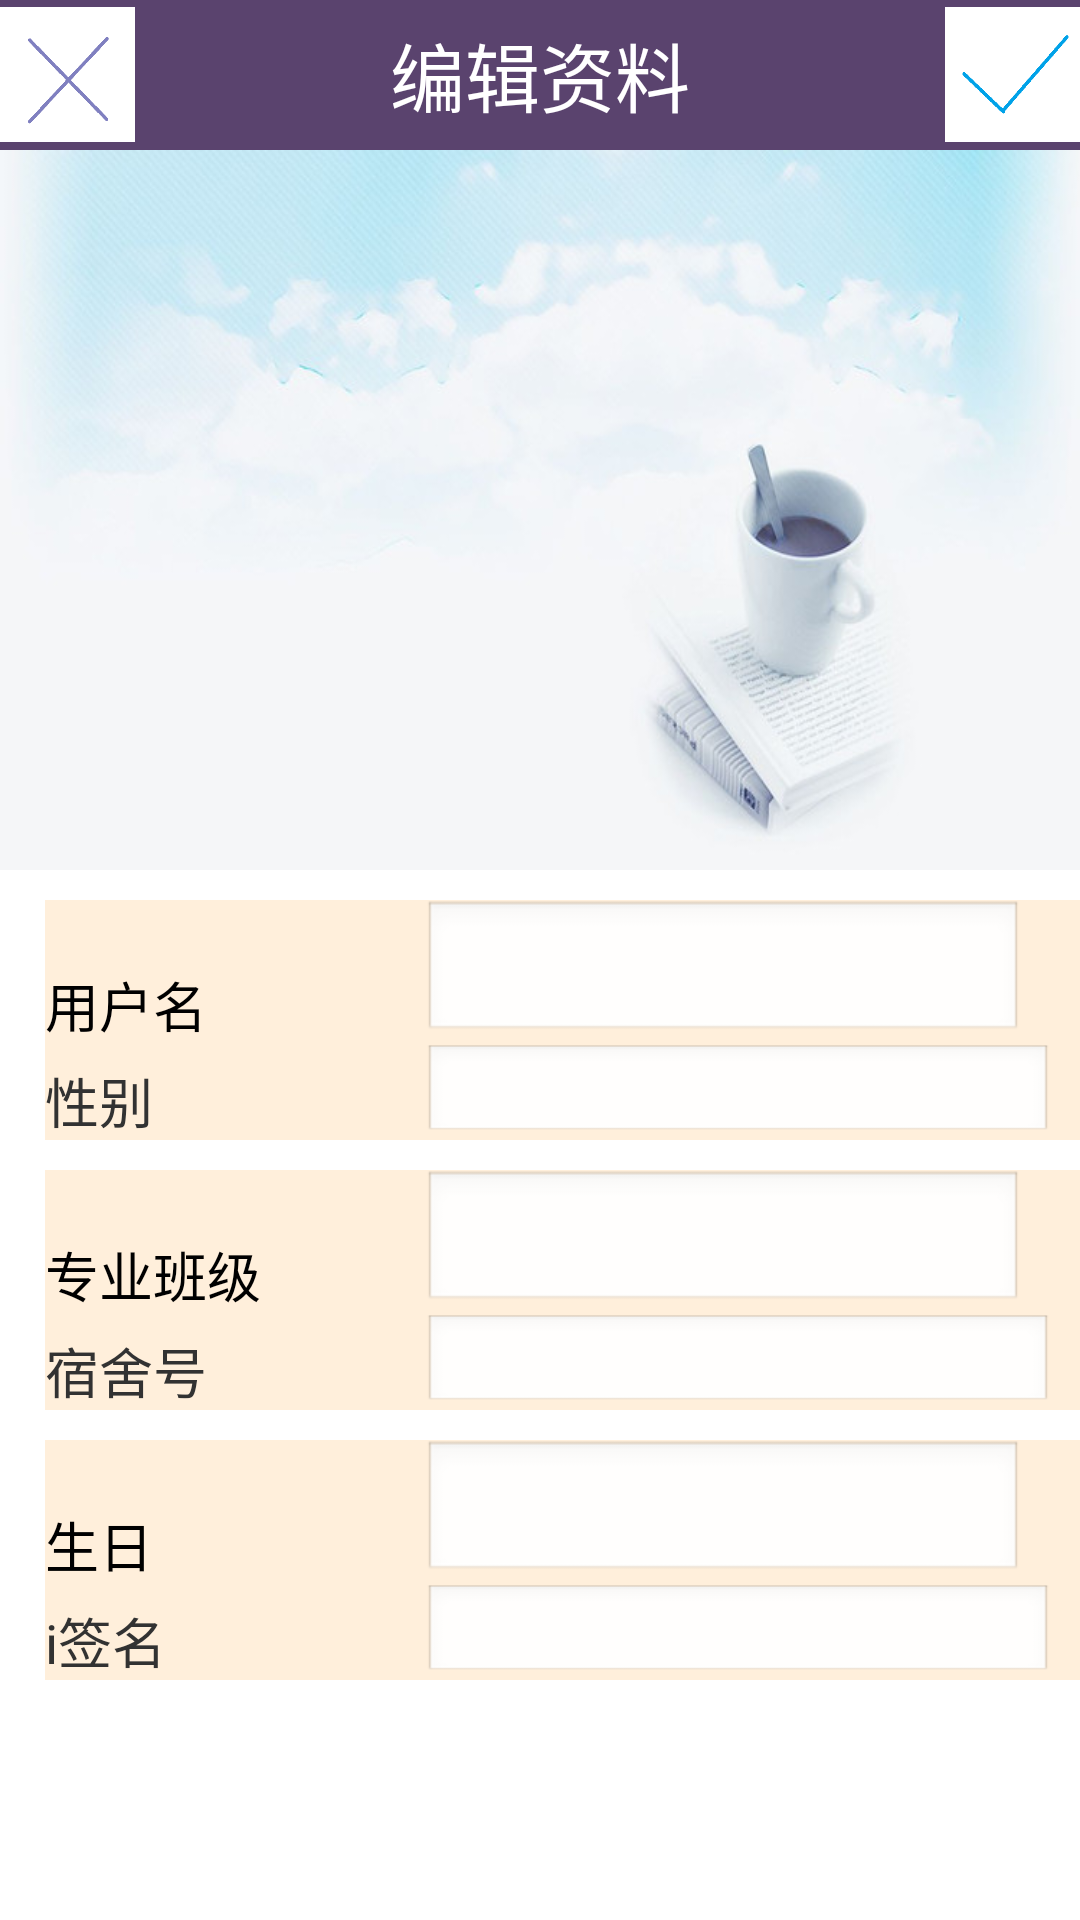

Icon bounding boxes for this 1080 x 1920 phone screenshot, format (x1, y1, x2, y2):
yes: (945, 7, 1080, 142)
